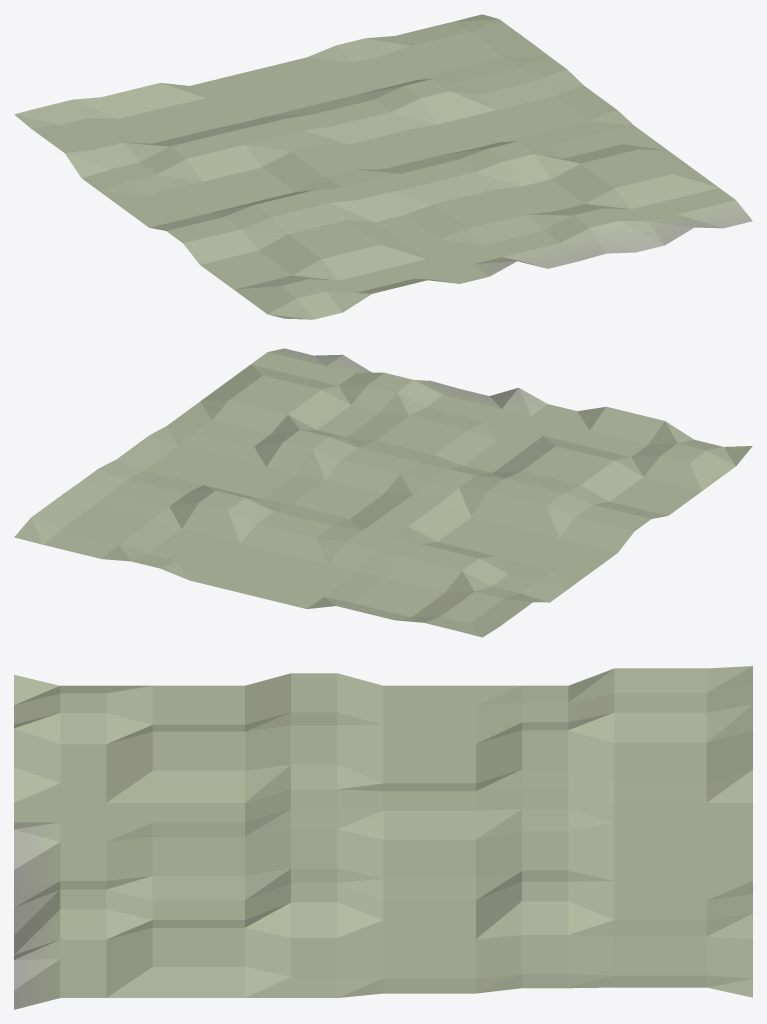
3 views of the same model, one above another, from view 1: azimuth 30°, elevation 25°; view 2: azimuth 150°, elevation 25°; view 3: azimuth 270°, elevation 25° (orthographic). The views are drawn at different scales.
Bounding box in the file's own units: 32 × 1.72 × 32.
